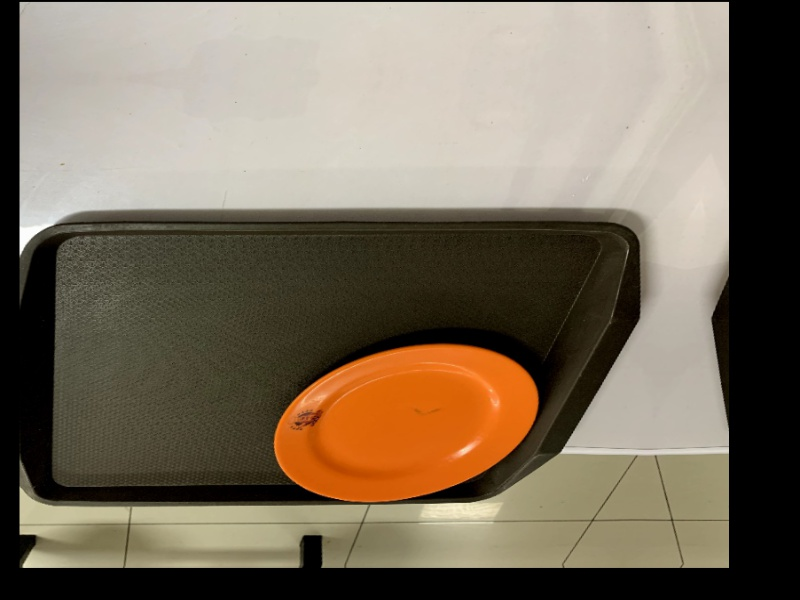dish10: (254, 338, 561, 505)
